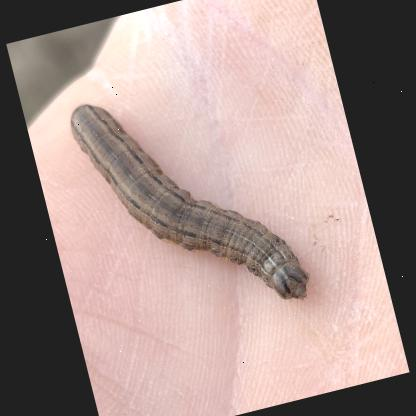Fall Armyworm Larvae: (63, 57, 320, 349)
